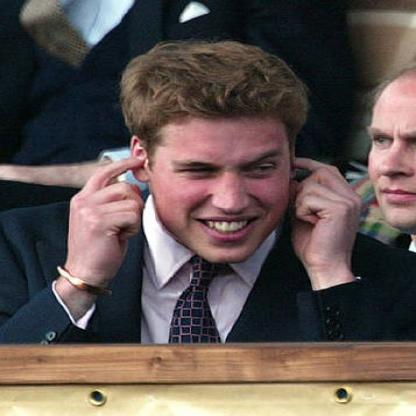face: (150, 58, 298, 266)
